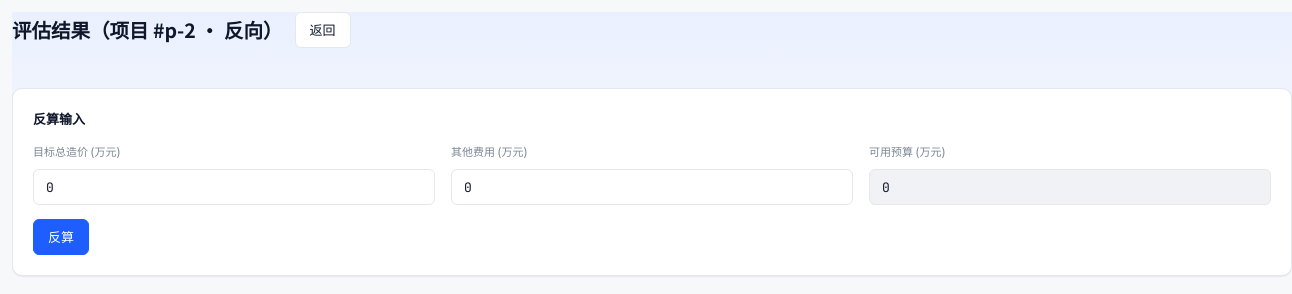
Test case: ResultView › reverse 模式：targetTotal=0 时点反算 → 显示「请输入目标金额」错误
Click the button "反算" at (61,237), box [33,219,89,255]
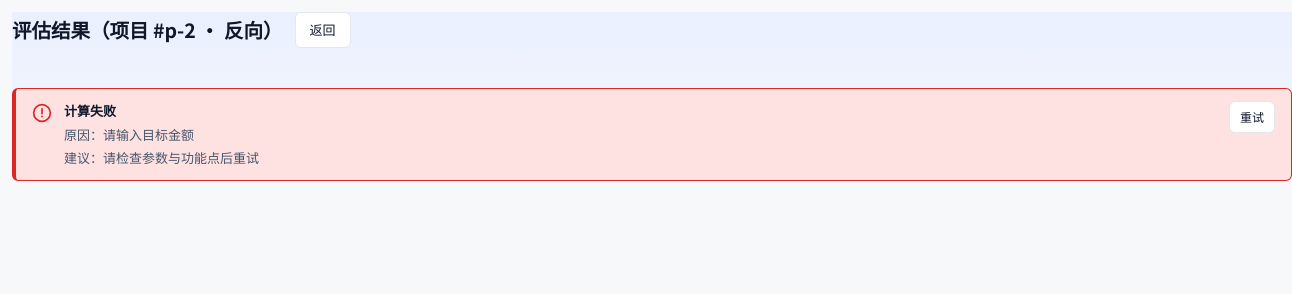
Check: the text "请输入目标金额" is shown, box [64,124,194,144]
